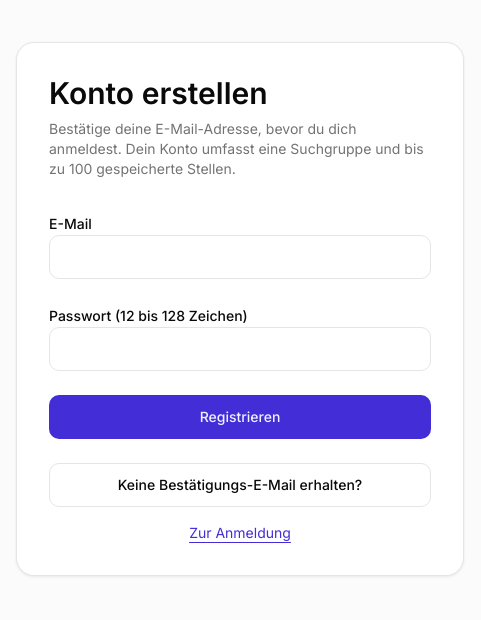
weist kurze Passwörter zurück und ermöglicht erneuten Versand ohne Passwort
In the field labelled "E-Mail": (240, 257) [49,235,431,279], type "USER@example.test"
In the password field labelled "Passwort (12 bis 128 Zeichen)": (240, 349) [49,327,431,371], type "Test-Passwort-2026"
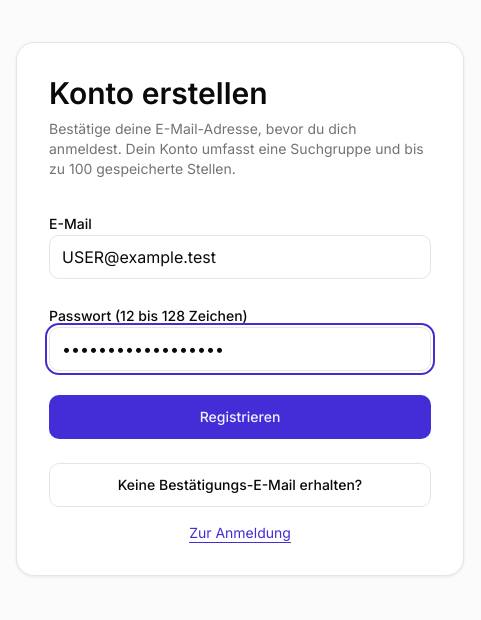
In the password field labelled "Passwort (12 bis 128 Zeichen)": (240, 349) [49,327,431,371], type "kurz"
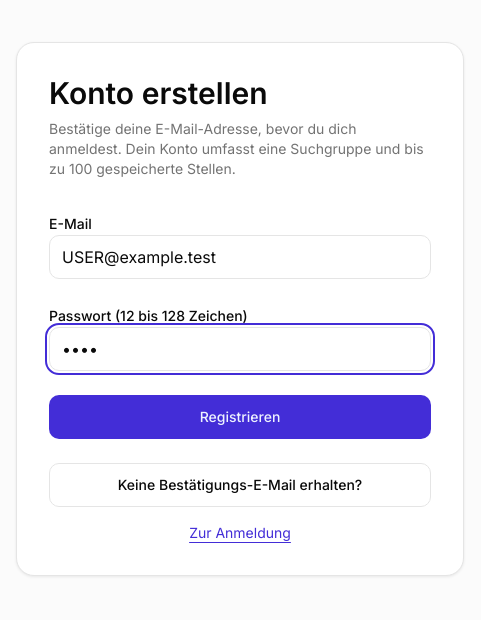
Click the button "Registrieren": (240, 417) [49,395,431,439]
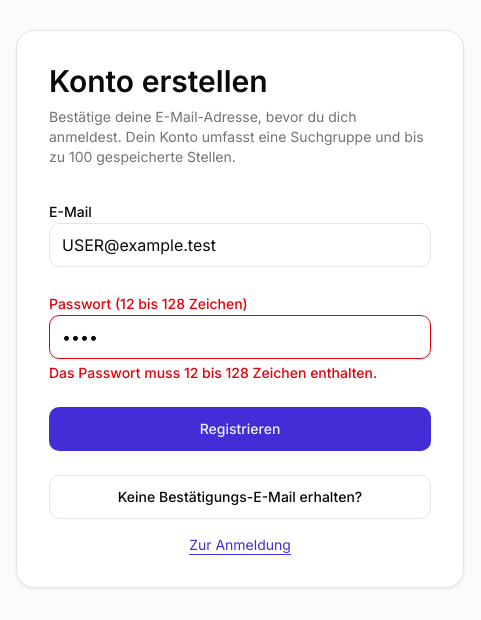
Result: the text "Das Passwort muss 12 bis 128 Zeichen enthalten." is shown at [49,363,431,383]
Click the button "Keine Bestätigungs-E-Mail erhalten?": (240, 497) [49,475,431,519]
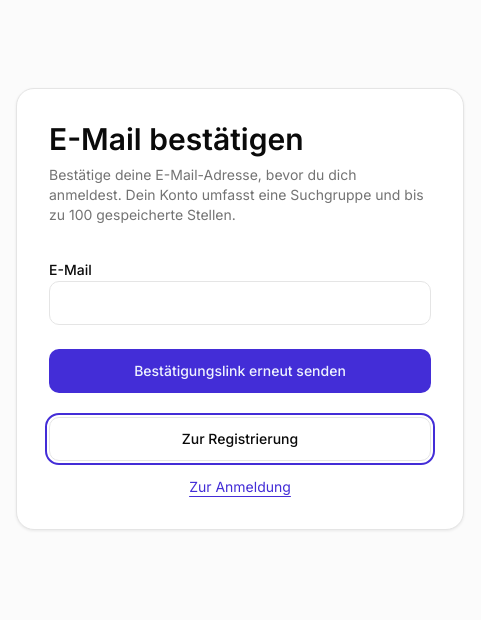
In the field labelled "E-Mail": (240, 303) [49,281,431,325], type "user@example.test"
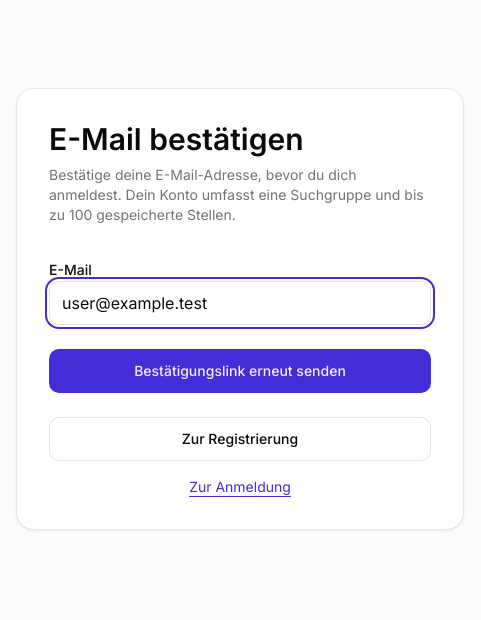
Click the button "Bestätigungslink erneut senden": (240, 371) [49,349,431,393]
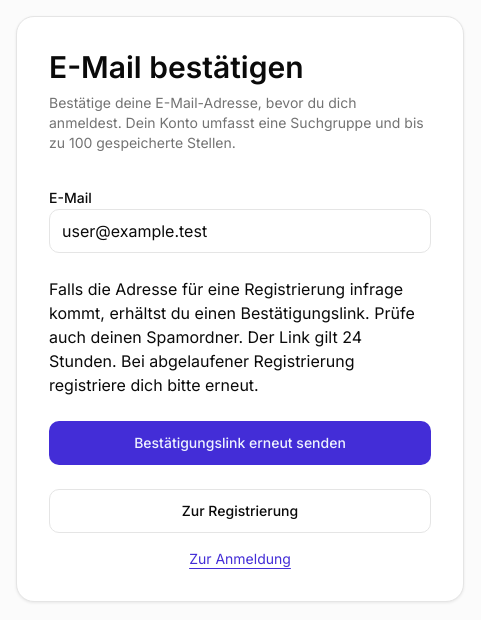
Result: the message shows "Bestätigungslink" at [49,279,415,395]
